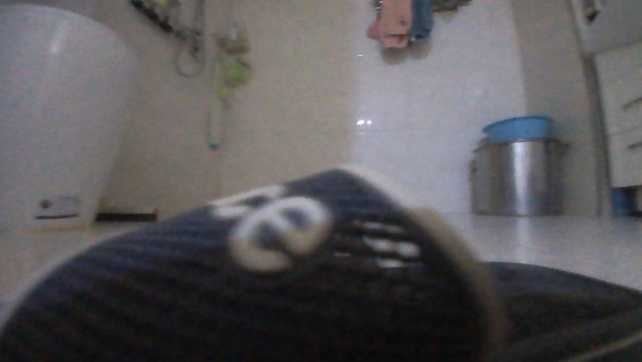slipper: (1, 170, 637, 359)
toilet: (0, 2, 138, 229)
